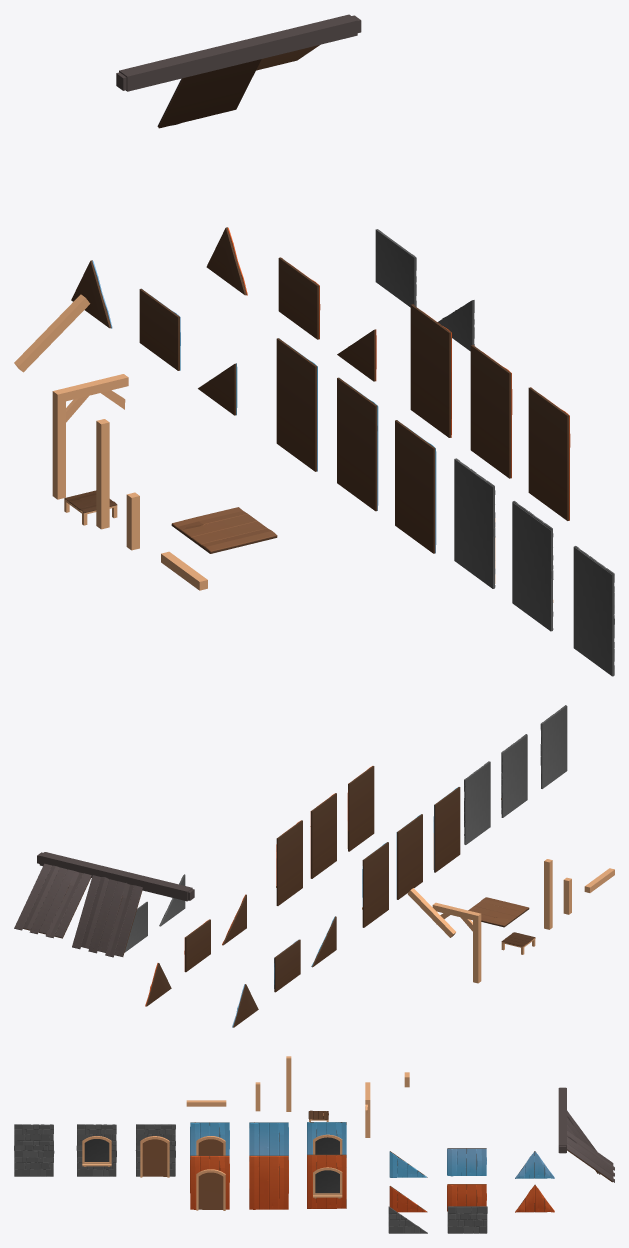
Rendered from TileSet.fbx.
3 views of the same model, one above another, from view 1: azimuth 30°, elevation 25°; view 2: azimuth 150°, elevation 25°; view 3: azimuth 270°, elevation 25° (orthographic). The views are drawn at different scales.
Visible parts, largest first — view 1: Cube.235, Cube.124, Cube.486, Cube.122, Cube.484, Cube.120, Cube.485, Cube.483, Cube.528, Cube.536, Cube.679, Cube.321 (+11 smaller); view 2: Cube.679, Cube.234, Cube.235, Cube.486, Cube.485, Cube.484, Cube.122, Cube.124, Cube.120, Cube.483, Cube.528, Cube.536 (+11 smaller); view 3: Cube.486, Cube.124, Cube.484, Cube.528, Cube.536, Cube.483, Cube.120, Cube.485, Cube.122, Cube.518, Cube.237, Cube.234 (+11 smaller).
Part boxes in pixels (<box>): Cube.235: <box>116,14,361,91</box>; Cube.124: <box>470,345,512,478</box>; Cube.486: <box>528,387,570,520</box>; Cube.122: <box>276,338,317,471</box>; Cube.484: <box>410,304,451,437</box>; Cube.120: <box>337,377,378,511</box>; Cube.485: <box>395,420,436,553</box>; Cube.483: <box>573,546,614,676</box>; Cube.528: <box>454,458,495,588</box>; Cube.536: <box>512,501,553,631</box>; Cube.679: <box>157,59,261,128</box>; Cube.321: <box>171,507,277,553</box>; Cube.679: <box>72,875,142,957</box>; Cube.234: <box>14,863,91,938</box>; Cube.235: <box>37,852,194,901</box>; Cube.486: <box>347,766,374,851</box>; Cube.485: <box>433,787,460,872</box>; Cube.484: <box>276,820,302,905</box>; Cube.122: <box>362,842,388,927</box>; Cube.124: <box>310,793,336,878</box>; Cube.120: <box>396,814,422,899</box>; Cube.483: <box>540,705,567,788</box>; Cube.528: <box>464,761,490,844</box>; Cube.536: <box>501,734,527,817</box>; Cube.486: <box>190,1155,229,1210</box>; Cube.124: <box>249,1155,288,1209</box>; Cube.484: <box>307,1154,346,1208</box>; Cube.528: <box>135,1124,175,1177</box>; Cube.536: <box>76,1124,116,1176</box>; Cube.483: <box>14,1124,54,1176</box>; Cube.120: <box>249,1122,288,1159</box>; Cube.485: <box>190,1122,229,1159</box>; Cube.122: <box>307,1122,346,1154</box>; Cube.518: <box>447,1206,487,1233</box>; Cube.237: <box>447,1148,486,1176</box>; Cube.234: <box>567,1130,614,1182</box>.
Size of the model in its own units: 1577 by 631 by 3050.
1 material, 1 textured.
